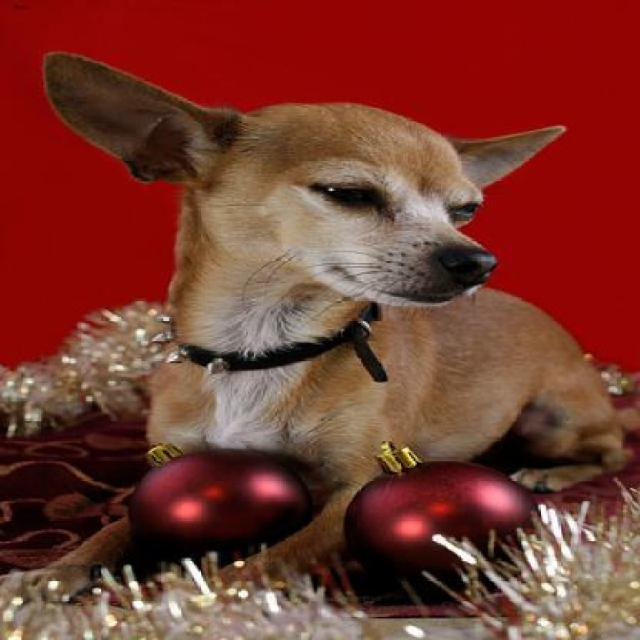Dog: (37, 54, 635, 603)
